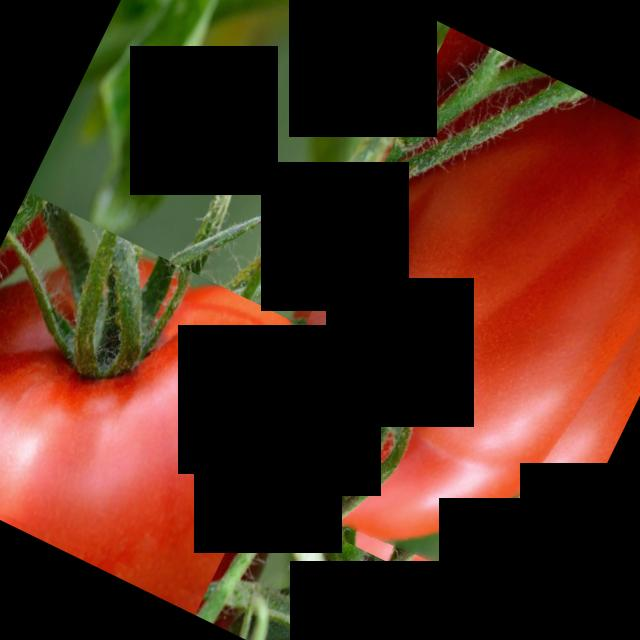tomatoes: (227, 27, 640, 629), (0, 191, 329, 614)
